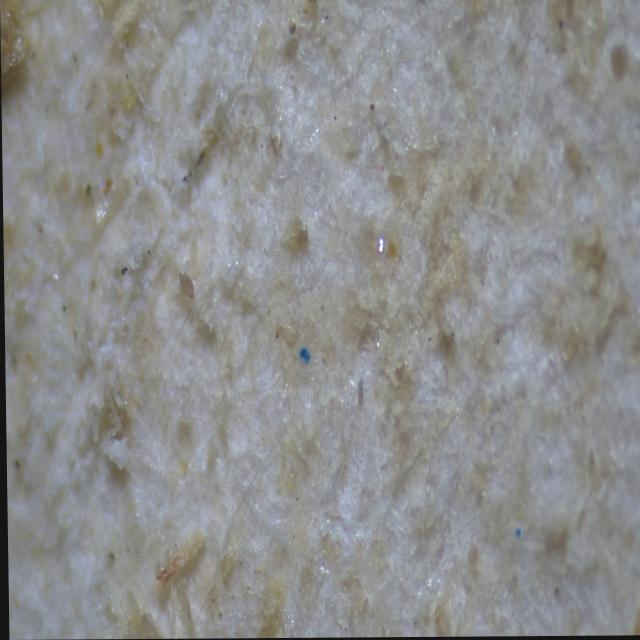microplastic: (297, 345, 313, 366)
